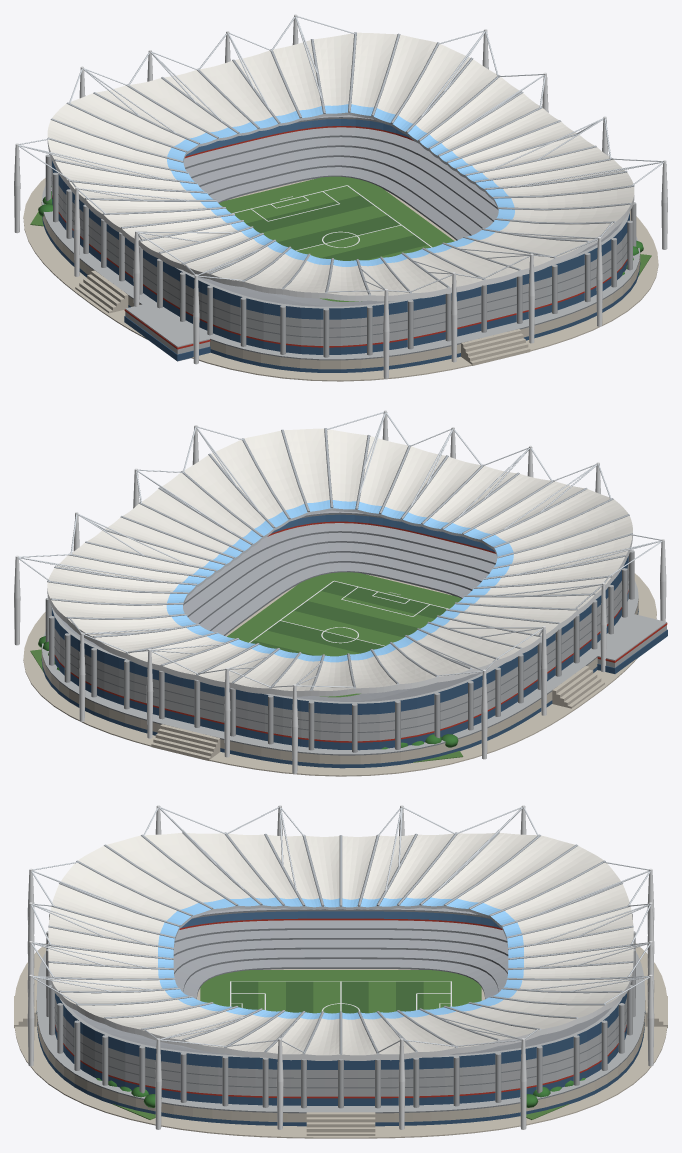
The model's file is seoul-world-cup-stadium.glb.
The picture shows the model from 3 angles, top to bottom: view 1: azimuth 30°, elevation 25°; view 2: azimuth 150°, elevation 25°; view 3: azimuth 270°, elevation 25°; orthographic projection. The views are drawn at different scales.
Size of the model in its own units: 284 by 48 by 313.
